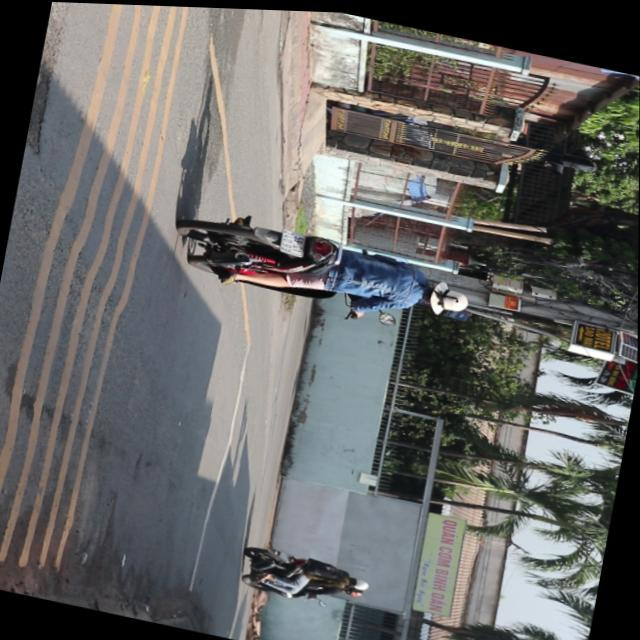licenseplate: (173, 197, 482, 335)
motorcyclist: (414, 272, 472, 317)
nohelmet: (281, 226, 308, 253)
